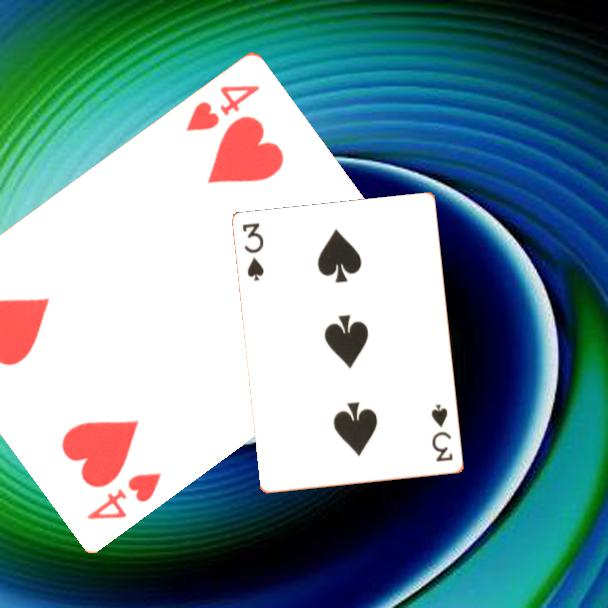h04: (182, 80, 264, 134), (83, 468, 165, 522)
s03: (428, 401, 456, 465), (239, 220, 267, 284)
